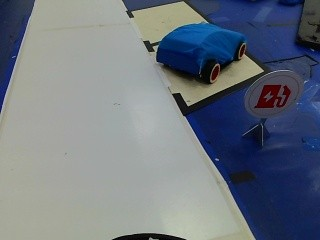battery: (247, 67, 301, 124)
car: (148, 14, 249, 86)
